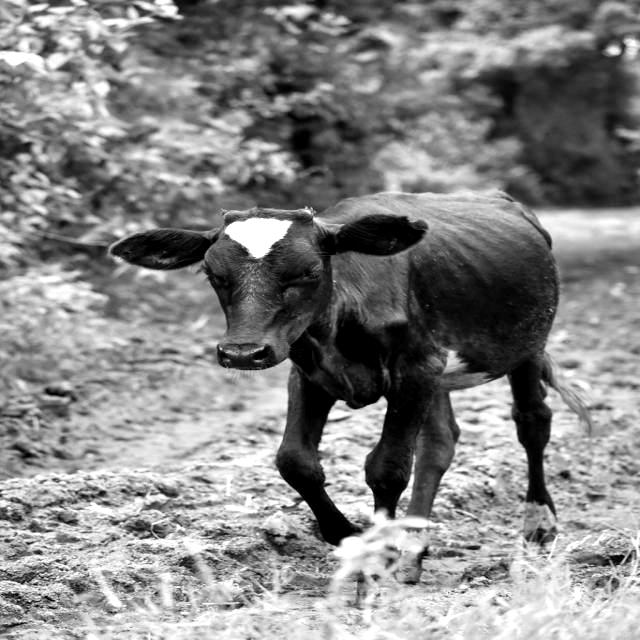COW: (110, 192, 590, 543)
